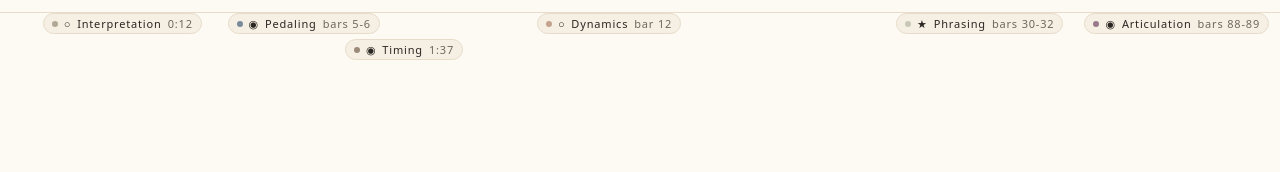
Test case: SessionTimelineStrip › expands and collapses a mark's evidence on tap
This screenshot has width=1280, height=172.
Check: the text "the left hand lagged" is not shown
Click the button with aria-label "Needs work: Timing, 1:37" at (404, 50), box 345,39 -> 463,60
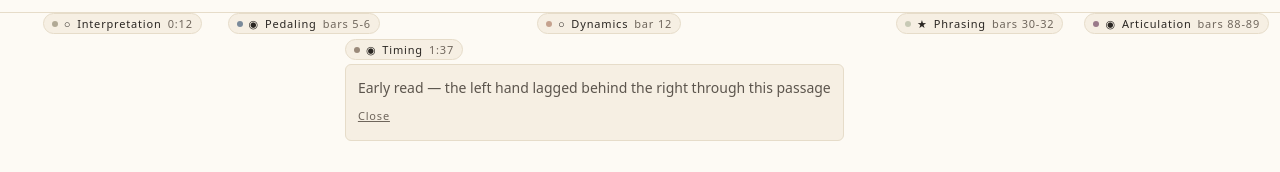
Check: the text "the left hand lagged" is shown, box 445,78 -> 831,97
Click the button with aria-label "Needs work: Timing, 1:37" at (404, 50), box 345,39 -> 463,60
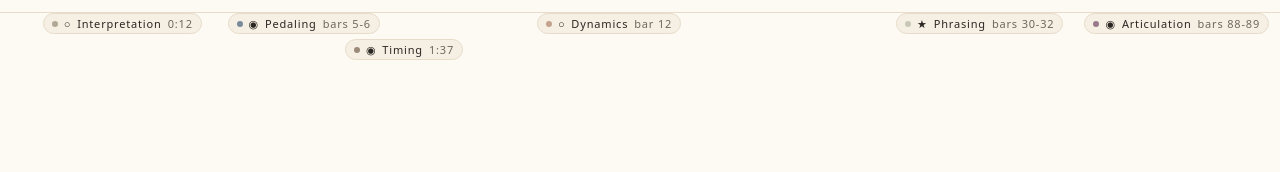
Check: the text "the left hand lagged" is gone
